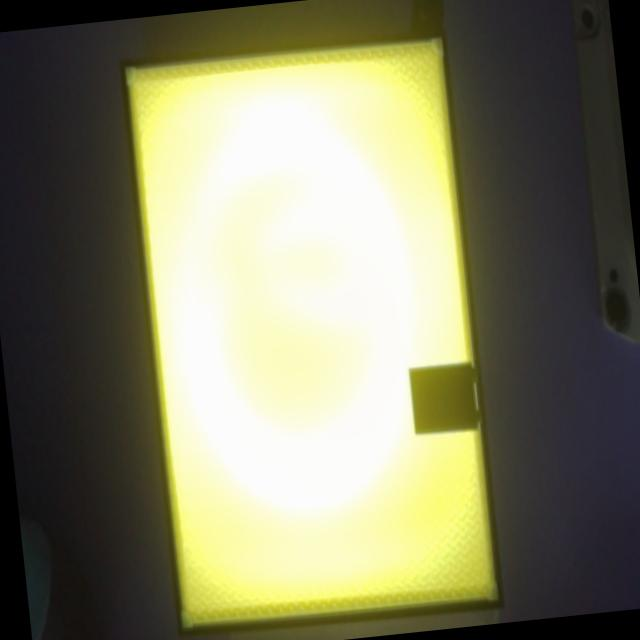bateria: (408, 360, 482, 433)
mesa: (119, 27, 503, 635)
